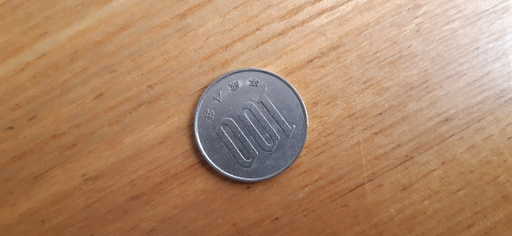100yen: (195, 69, 308, 182)
